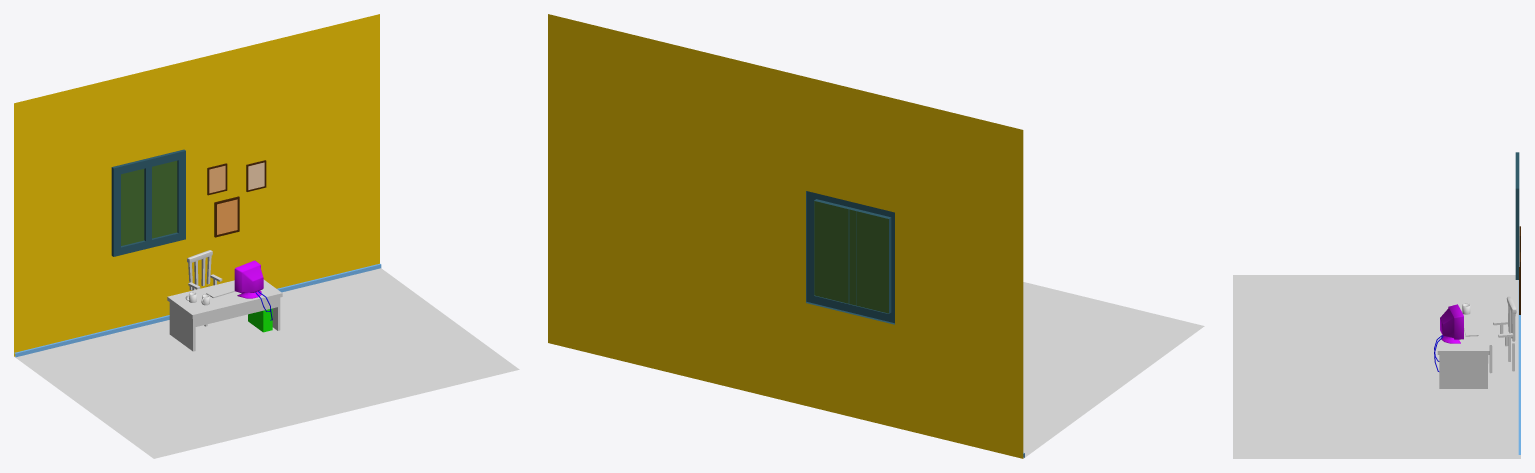
File: House 3.fbx
3 renders of one model, left to right at view 1: azimuth 30°, elevation 25°; view 2: azimuth 150°, elevation 25°; view 3: azimuth 270°, elevation 25°, orthographic. The views are drawn at different scales.
Visible parts, largest first — view 1: Wall3, Floor3, Window1.001, Table1, Computer, Photo2.001, Chair1, Photo2.002, Photo2; view 2: Wall3, Floor3, Window1.001; view 3: Floor3, Table1, Computer, Chair1, Window1.001, Wall3.
Boxes of the visible parts, box(x1,y1,x2,y2) form: Wall3: box(14, 14, 381, 357); Floor3: box(14, 268, 519, 458); Window1.001: box(111, 149, 185, 256); Table1: box(167, 279, 282, 351); Computer: box(234, 260, 272, 332); Photo2.001: box(214, 196, 239, 237); Chair1: box(187, 250, 222, 326); Photo2.002: box(246, 160, 266, 191); Photo2: box(207, 163, 227, 195); Wall3: box(548, 14, 1024, 458); Floor3: box(1023, 282, 1204, 458); Window1.001: box(806, 191, 894, 324); Floor3: box(1233, 275, 1520, 458); Table1: box(1437, 305, 1489, 388); Computer: box(1434, 304, 1463, 371); Chair1: box(1488, 296, 1516, 373); Window1.001: box(1515, 152, 1519, 279); Wall3: box(1518, 280, 1520, 454).
Bounding box in the file's own units: 343 × 227 × 227.
